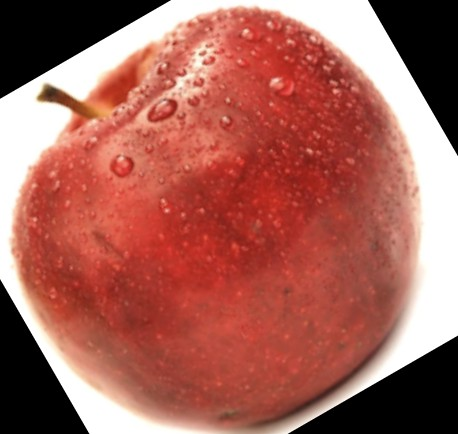fresh_apple: (11, 8, 422, 434)
